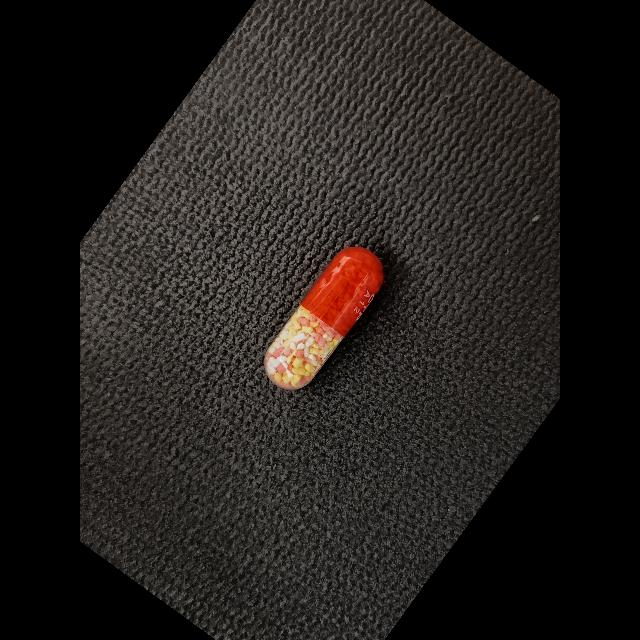Intact Capsule: (264, 246, 384, 389)
